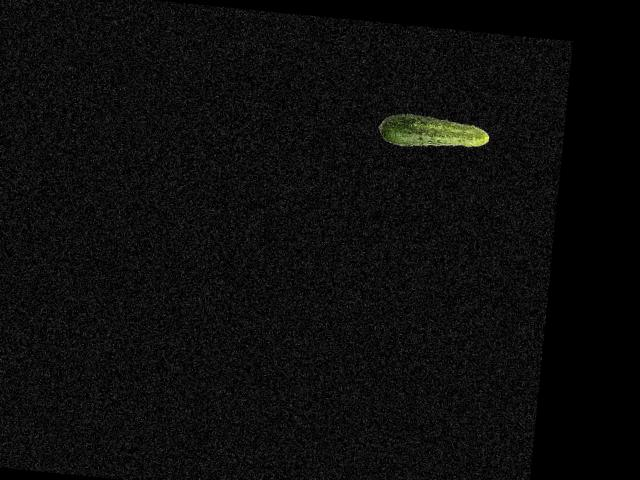cucumber: (376, 109, 490, 154)
